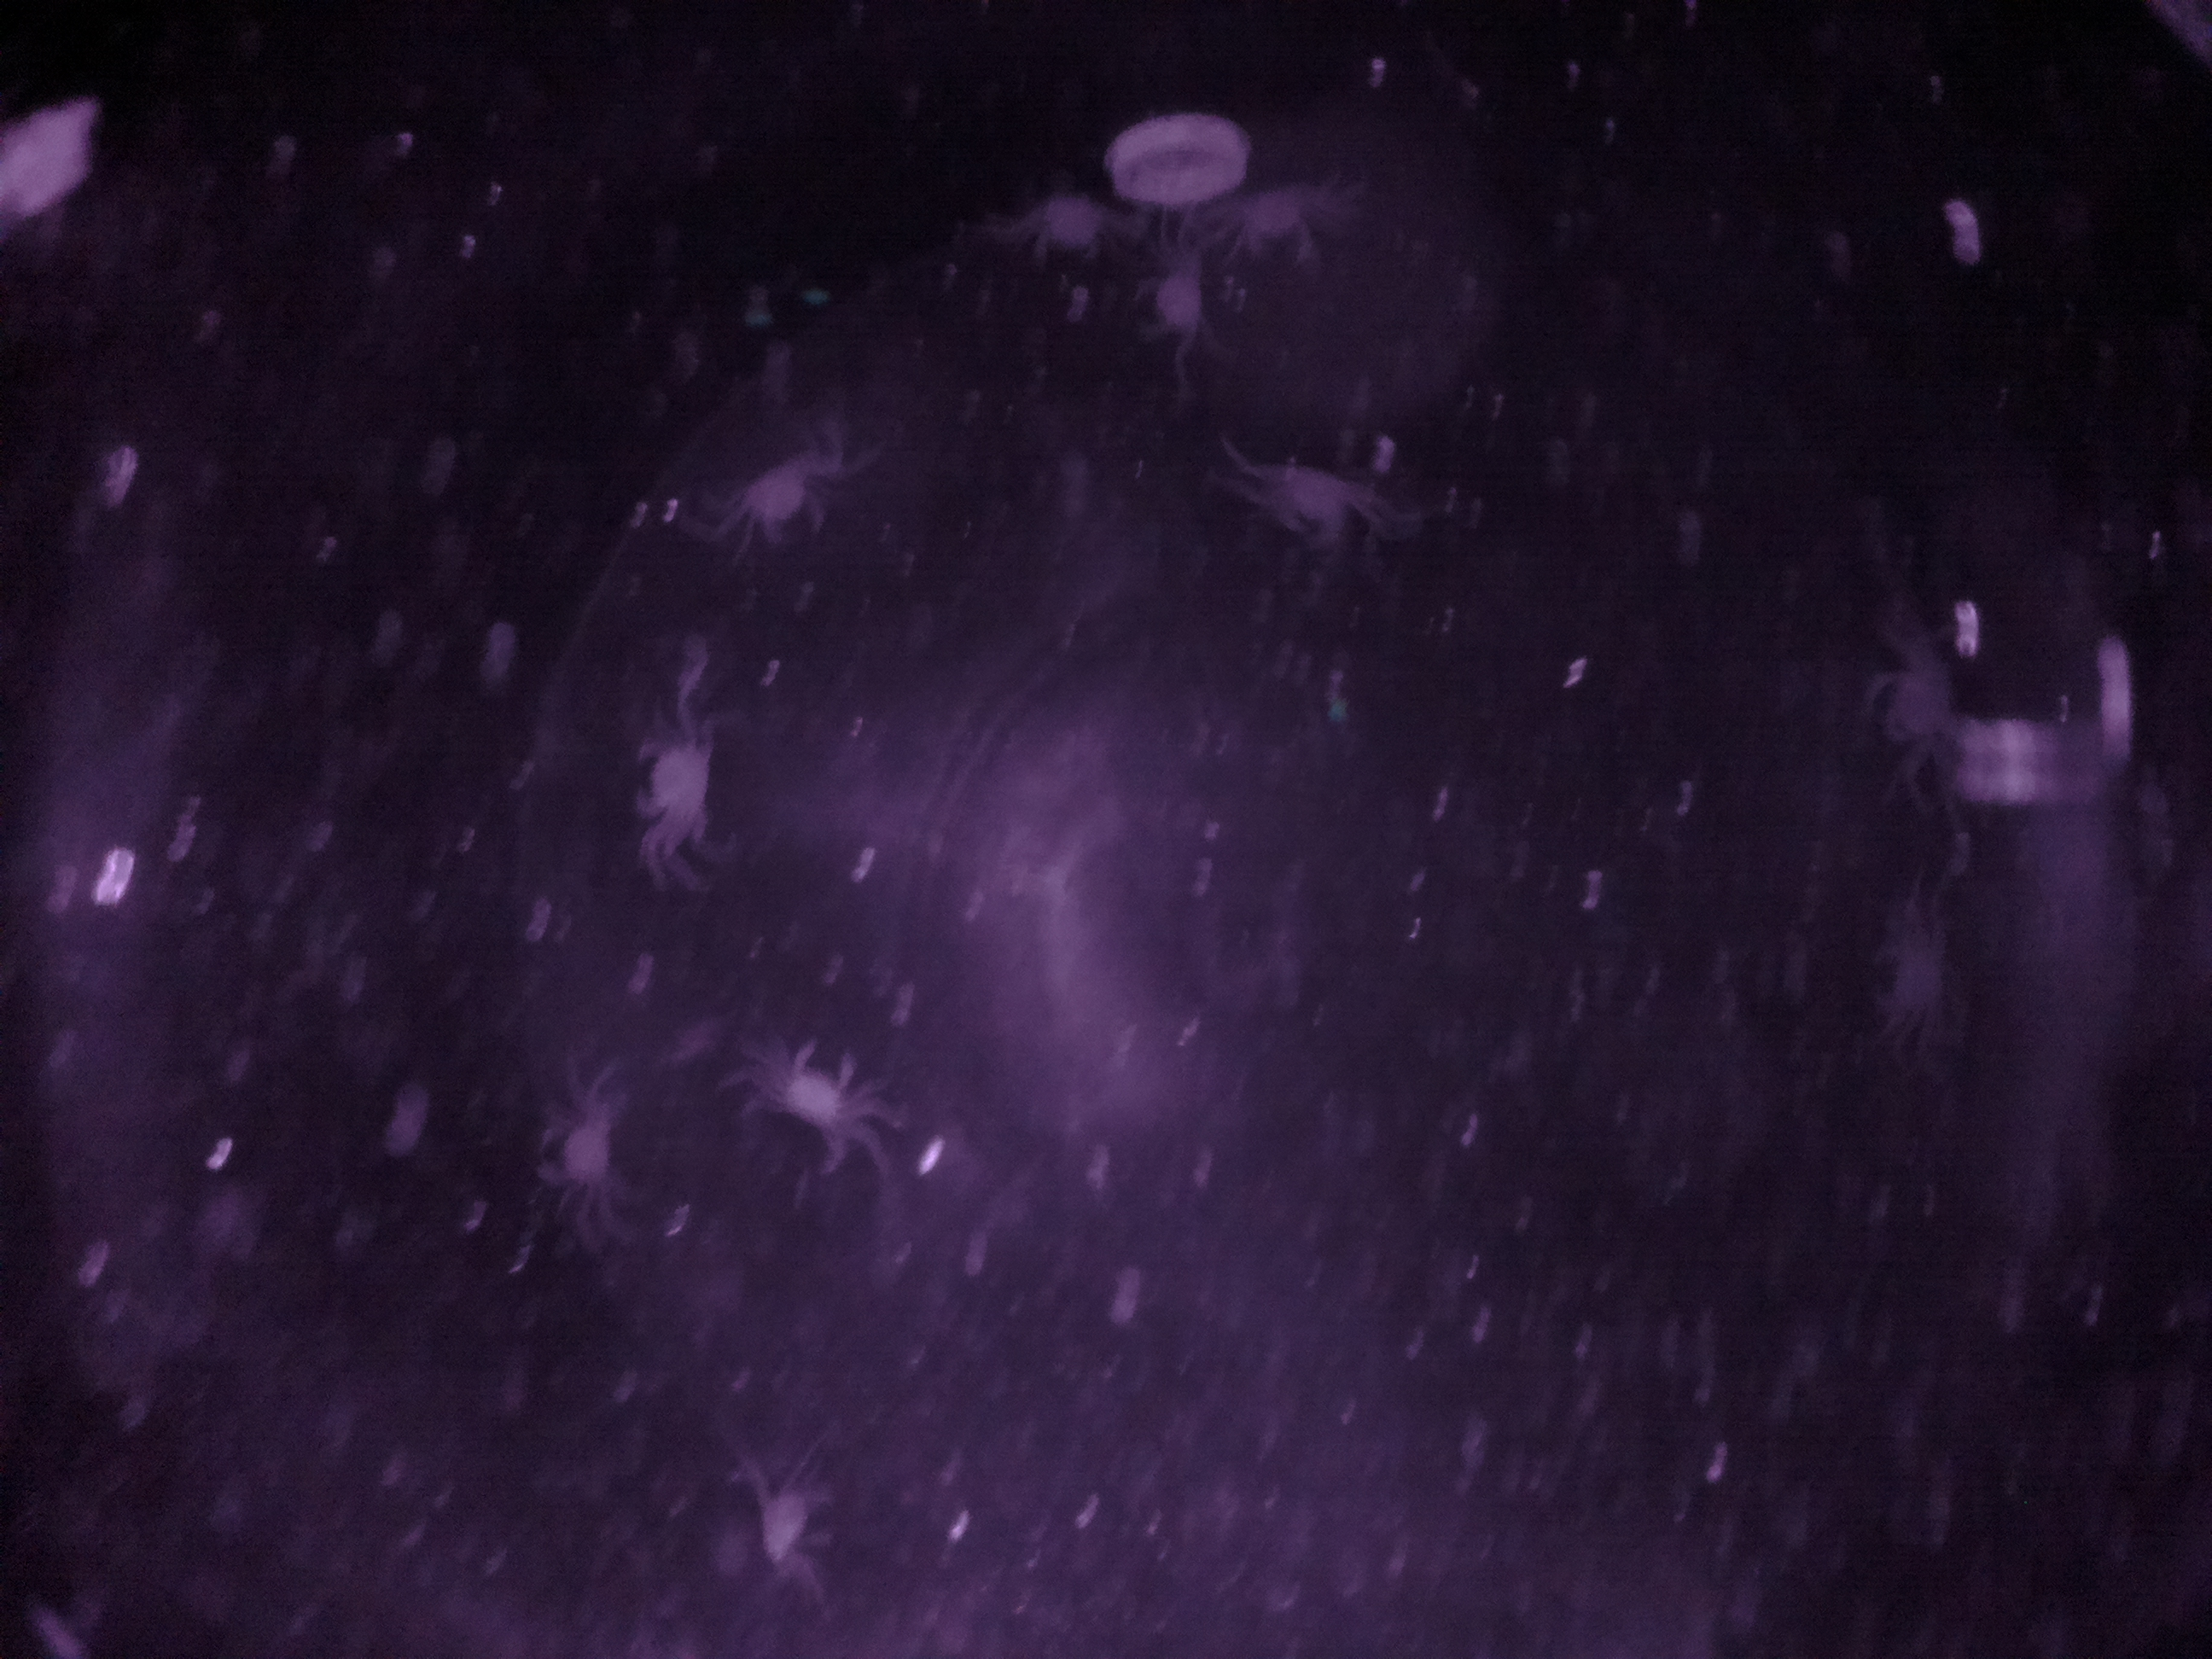Crab: (599, 706, 751, 838), (758, 1012, 876, 1161)
